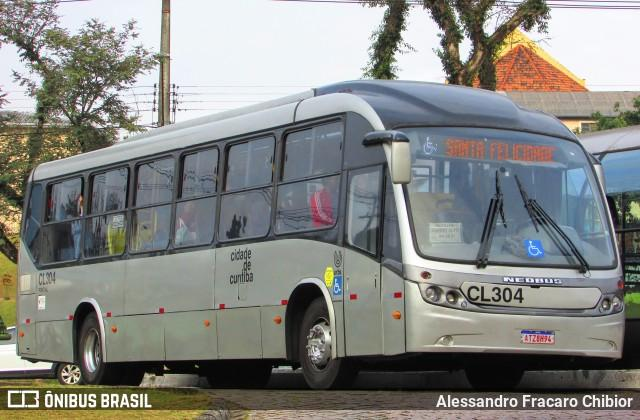SANTA FELICIDADE: (442, 134, 557, 168)
